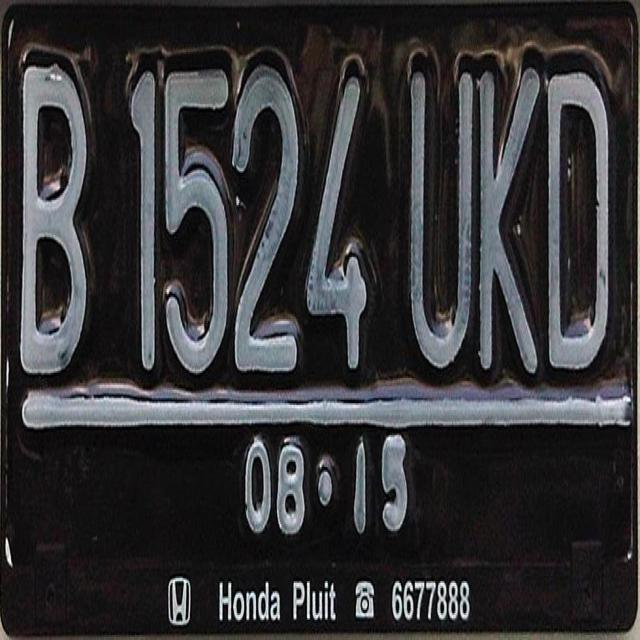1: (122, 43, 162, 372)
2: (235, 44, 304, 377)
4: (304, 48, 373, 384)
5: (163, 41, 233, 378)
B: (14, 42, 92, 380)
D: (546, 55, 612, 383)
K: (476, 61, 544, 388)
U: (404, 62, 476, 370)
